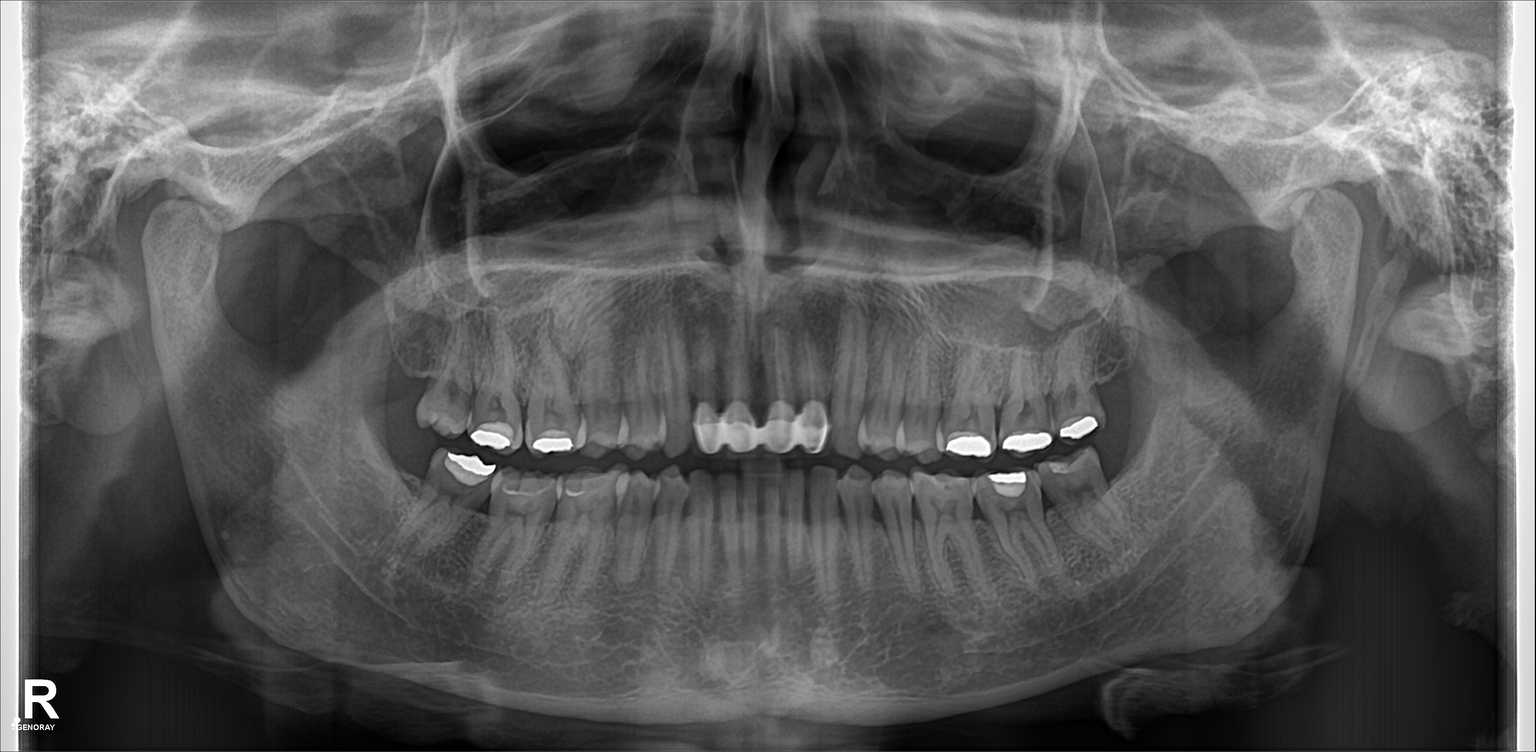Endodontically Treated Tooth: (721, 335, 769, 460), (791, 339, 831, 454)
Missing Tooth: (385, 302, 434, 417), (378, 426, 434, 526), (1100, 419, 1149, 508), (1093, 307, 1128, 422)
